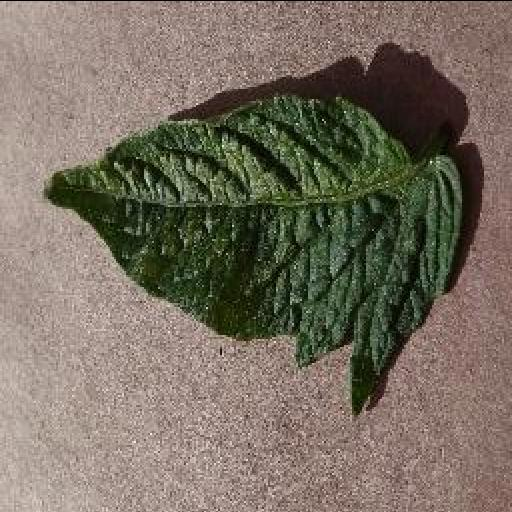disease_tomato: (38, 94, 462, 418)
